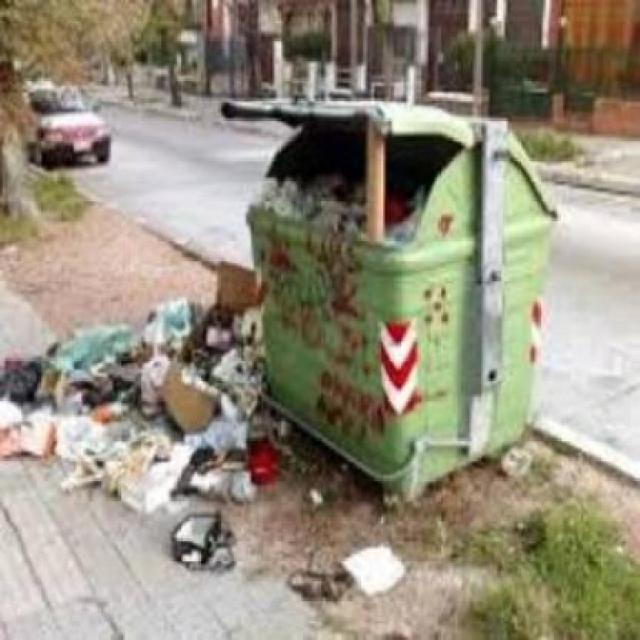garbage: (0, 252, 408, 604), (253, 166, 429, 248), (490, 440, 539, 480)
